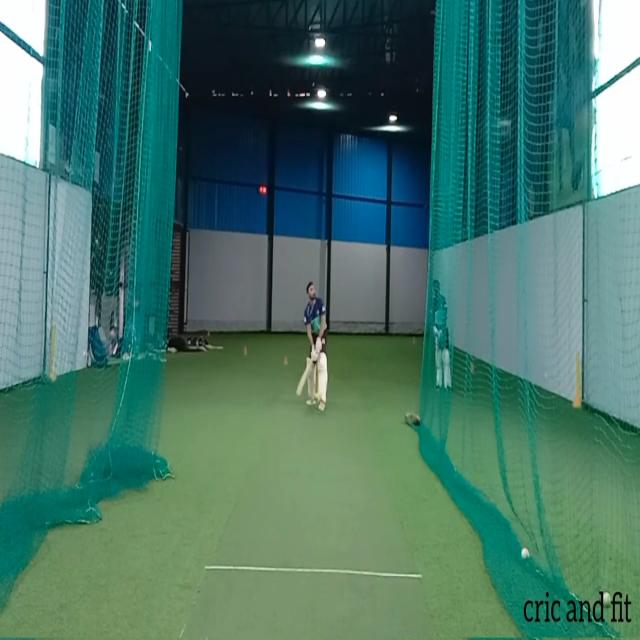batsman: (296, 279, 329, 413)
